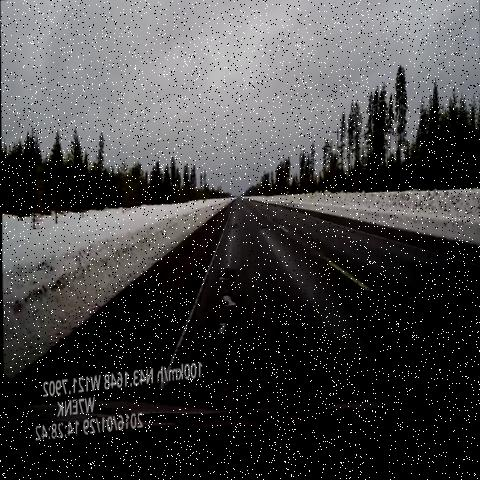pothole: (214, 326, 243, 368), (217, 265, 238, 290), (219, 295, 239, 320), (253, 216, 270, 239), (228, 220, 244, 242)
